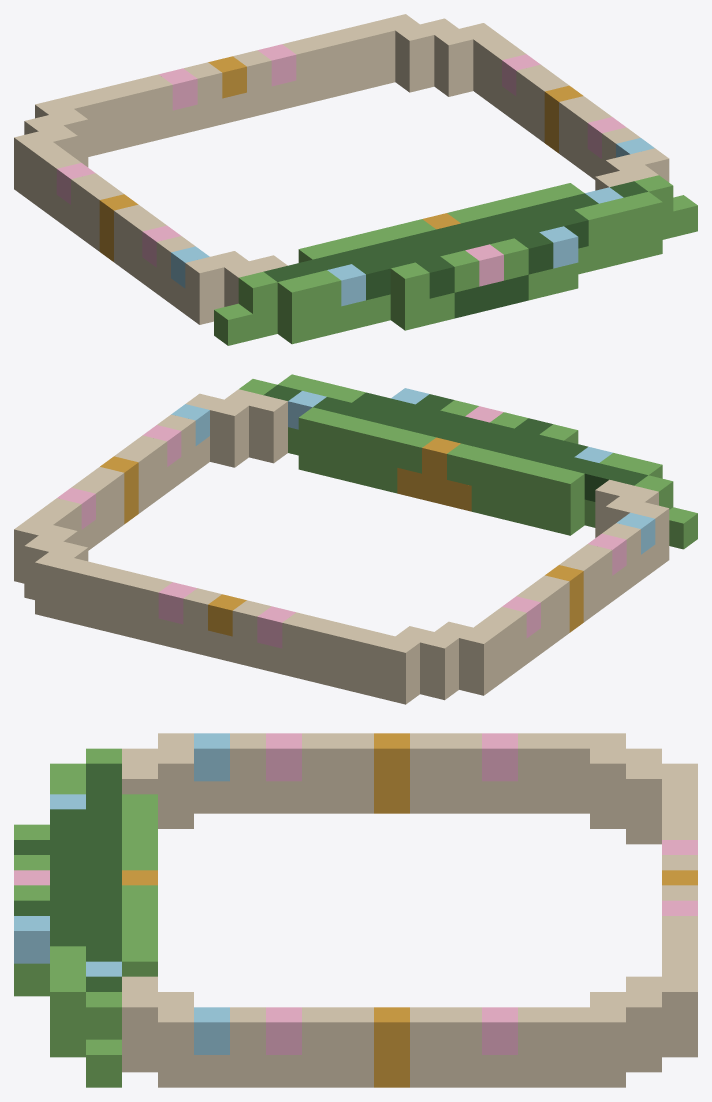
File: britney-acc3.0268dac1.glb
The picture shows the model from 3 angles, top to bottom: view 1: azimuth 30°, elevation 25°; view 2: azimuth 150°, elevation 25°; view 3: azimuth 270°, elevation 25°; orthographic projection. The views are drawn at different scales.
Parts seen in each view (by area): view 1: beige, verde, verdeOscuro, rosa, dorado, celeste; view 2: beige, verde, verdeOscuro, dorado, rosa, celeste; view 3: beige, verde, verdeOscuro, rosa, dorado, celeste.
Boxes of the visible parts, x1,y1,x2,y2 form: beige: [14, 14, 669, 324]; verde: [214, 175, 697, 345]; verdeOscuro: [263, 181, 647, 318]; rosa: [56, 44, 625, 286]; dorado: [99, 56, 583, 261]; celeste: [171, 138, 654, 306]; beige: [14, 389, 669, 704]; verde: [239, 374, 697, 549]; verdeOscuro: [263, 385, 647, 501]; dorado: [100, 437, 583, 636]; rosa: [57, 406, 626, 648]; celeste: [171, 388, 655, 554]; beige: [122, 733, 697, 1087]; verde: [14, 748, 157, 1087]; verdeOscuro: [14, 763, 121, 991]; rosa: [14, 733, 697, 1054]; dorado: [122, 733, 697, 1087]; celeste: [14, 733, 229, 1054].
Bounding box in the file's own units: 0.35 × 0.0368 × 0.35.
